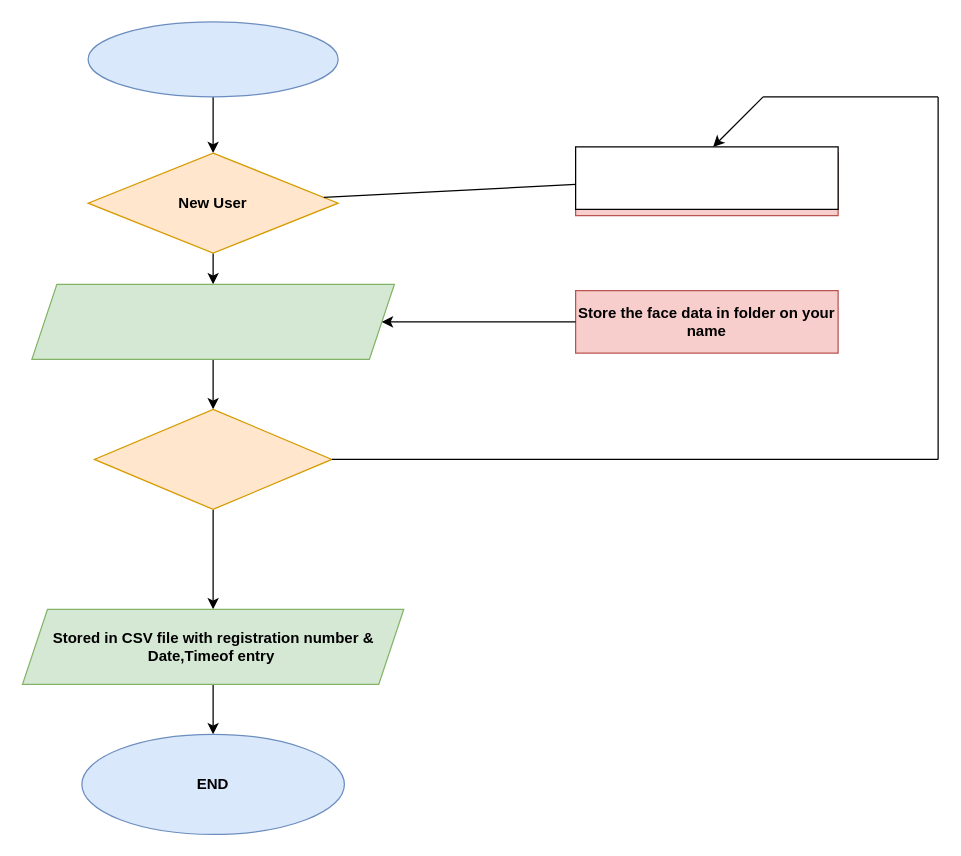
This 961x856 diagram has some shape labels left out. The shapes that lost their labels are listed below. From the top down, each one's centre as x and y in pixels, then its label:
At pixel 212 59: "Start".
At pixel 212 321: "Recognize the face".
At pixel 212 458: "Face Recognized".
